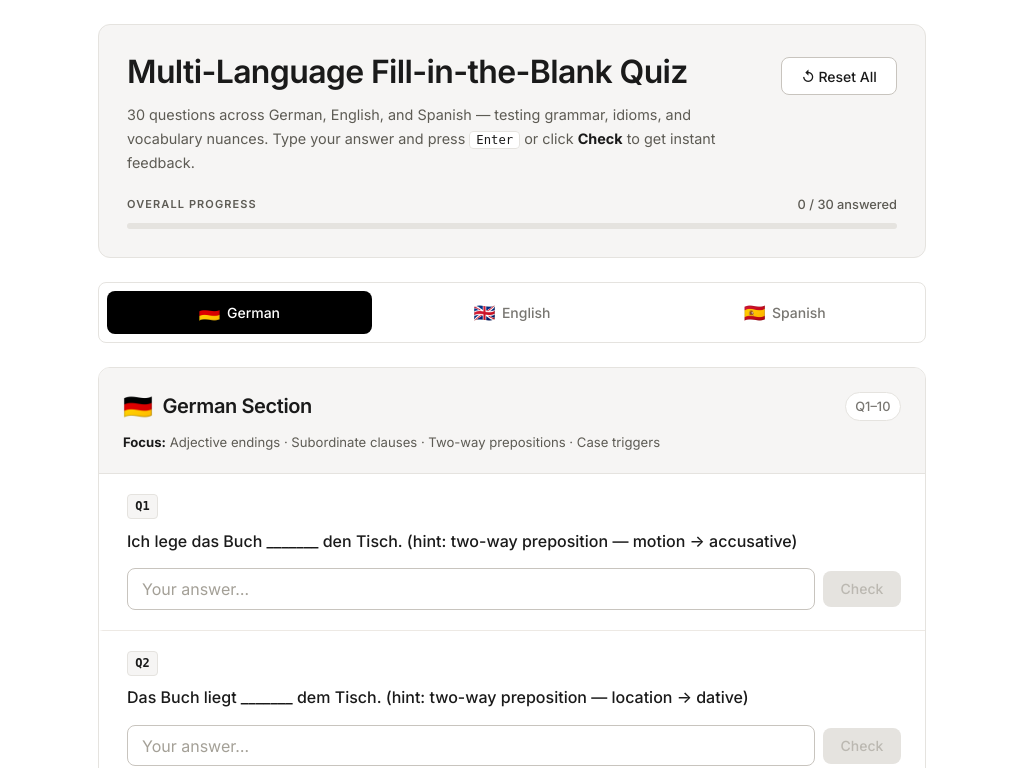
QuizPage › Group 4 — Answering Incorrectly (Q1: wrong input) › shows a ✗ Incorrect verdict badge
Step 1. Type "unter" into the 1st field with placeholder "Your answer…" → (471, 589), box [127, 568, 815, 610]
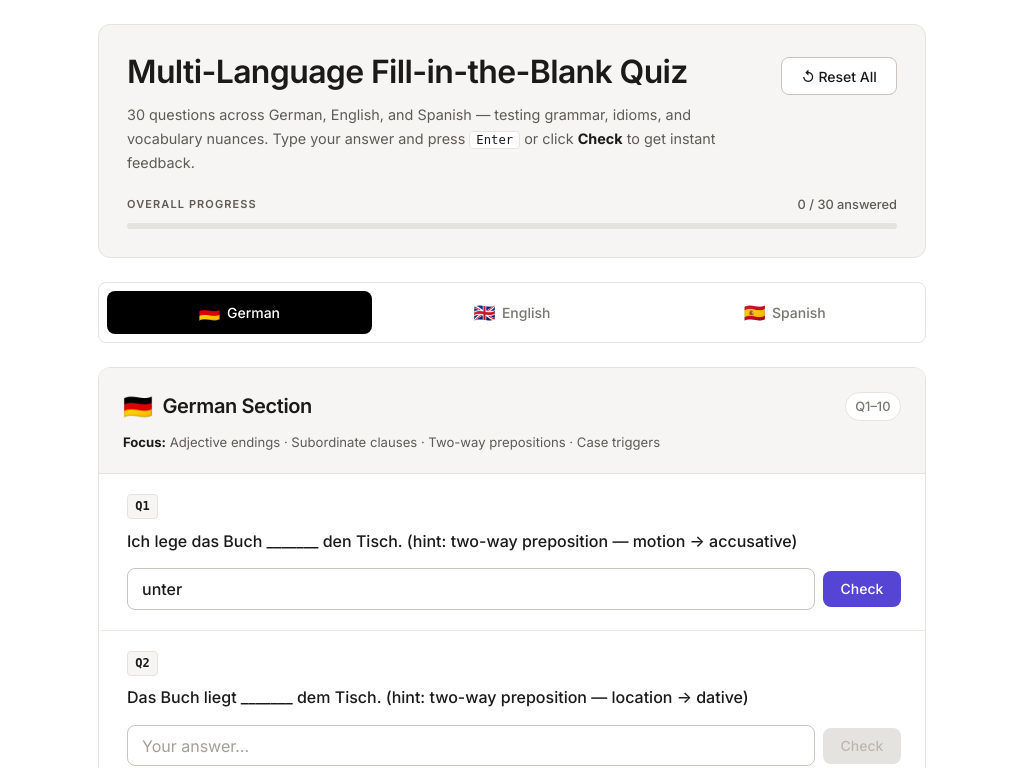
Step 2. Click the 1st button "Check" → (862, 589), box [823, 571, 901, 607]
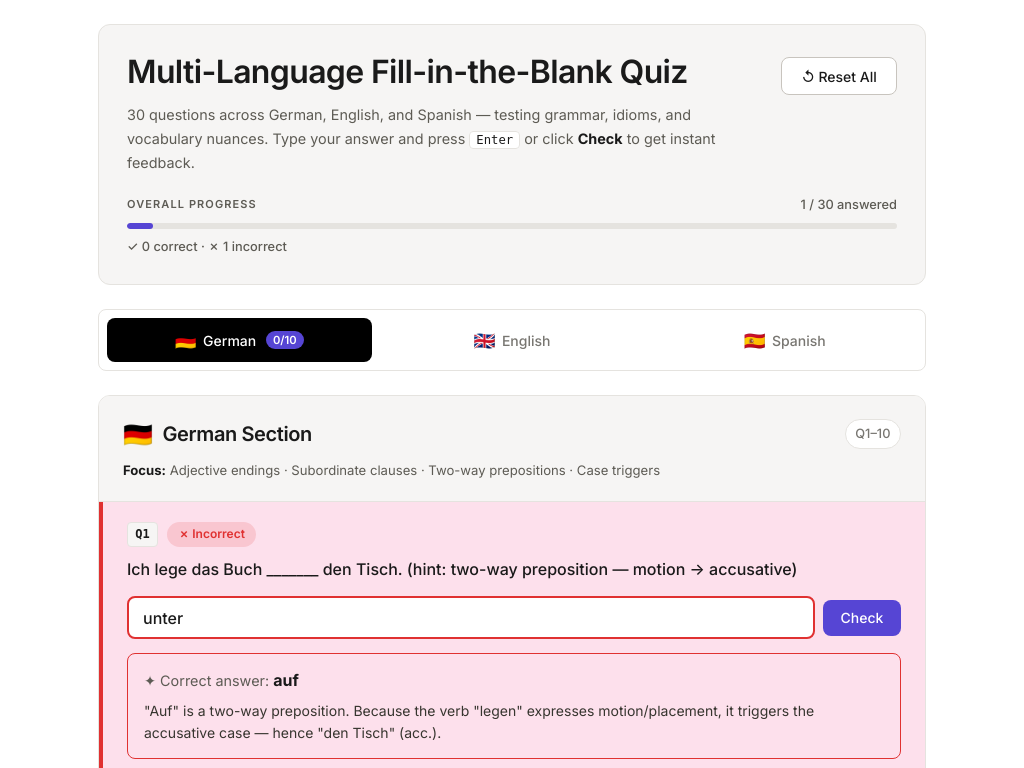
Result: the text "✗ Incorrect" is shown at [167, 522, 256, 547]
